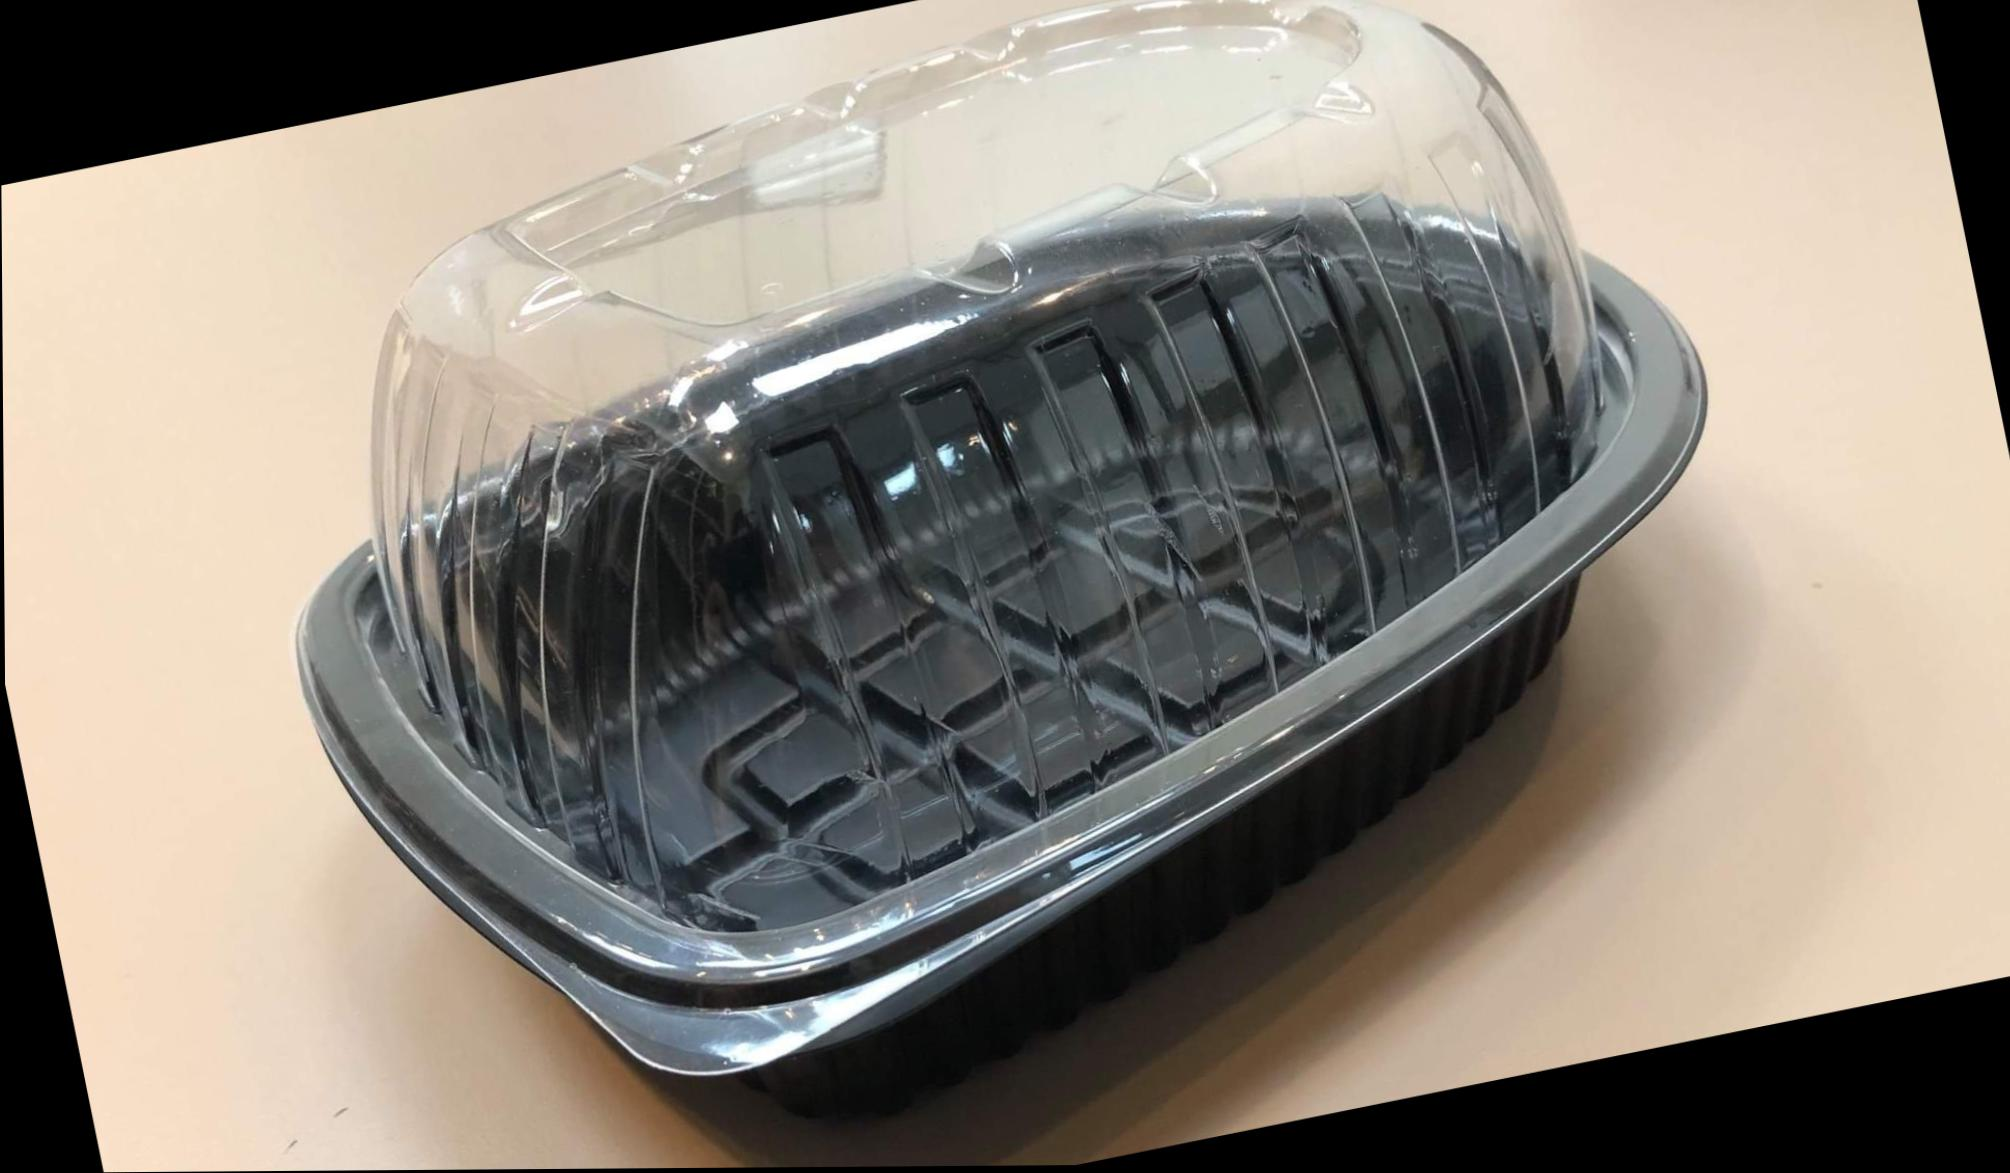plastic: (297, 0, 1702, 1120)
